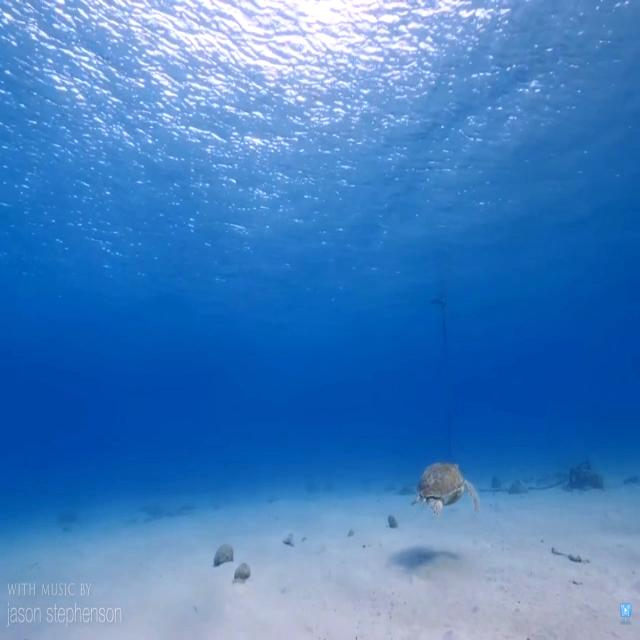Sea turtle: (412, 460, 482, 519)
